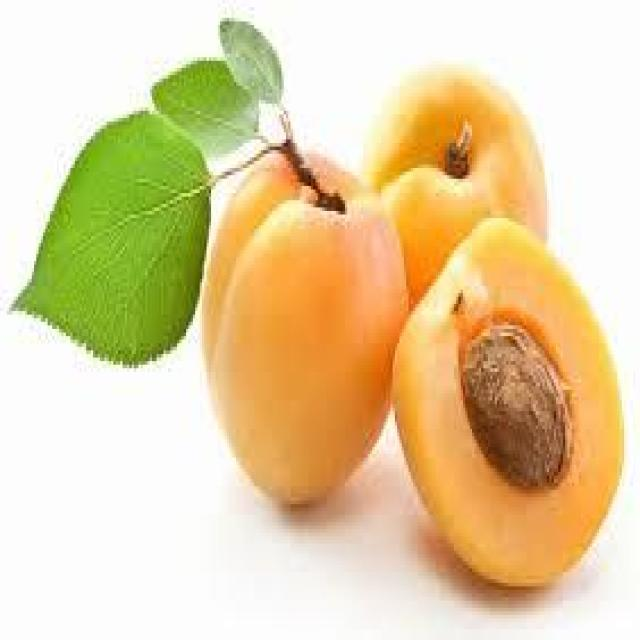cekirdek: (462, 313, 582, 506)
kayisi: (384, 213, 632, 600), (195, 134, 421, 522), (357, 48, 553, 324)
yaprak: (9, 97, 216, 375), (145, 50, 264, 172), (215, 16, 289, 113)
